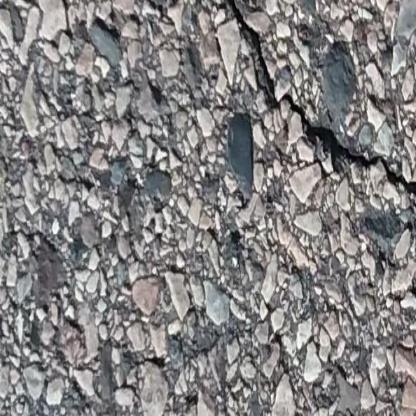Cracks: (218, 0, 416, 202)
